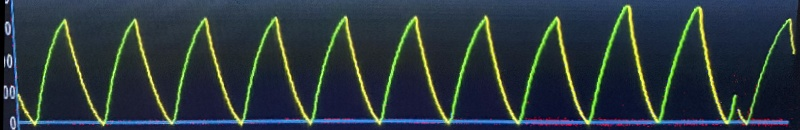normal_volume: (21, 2, 736, 130)
